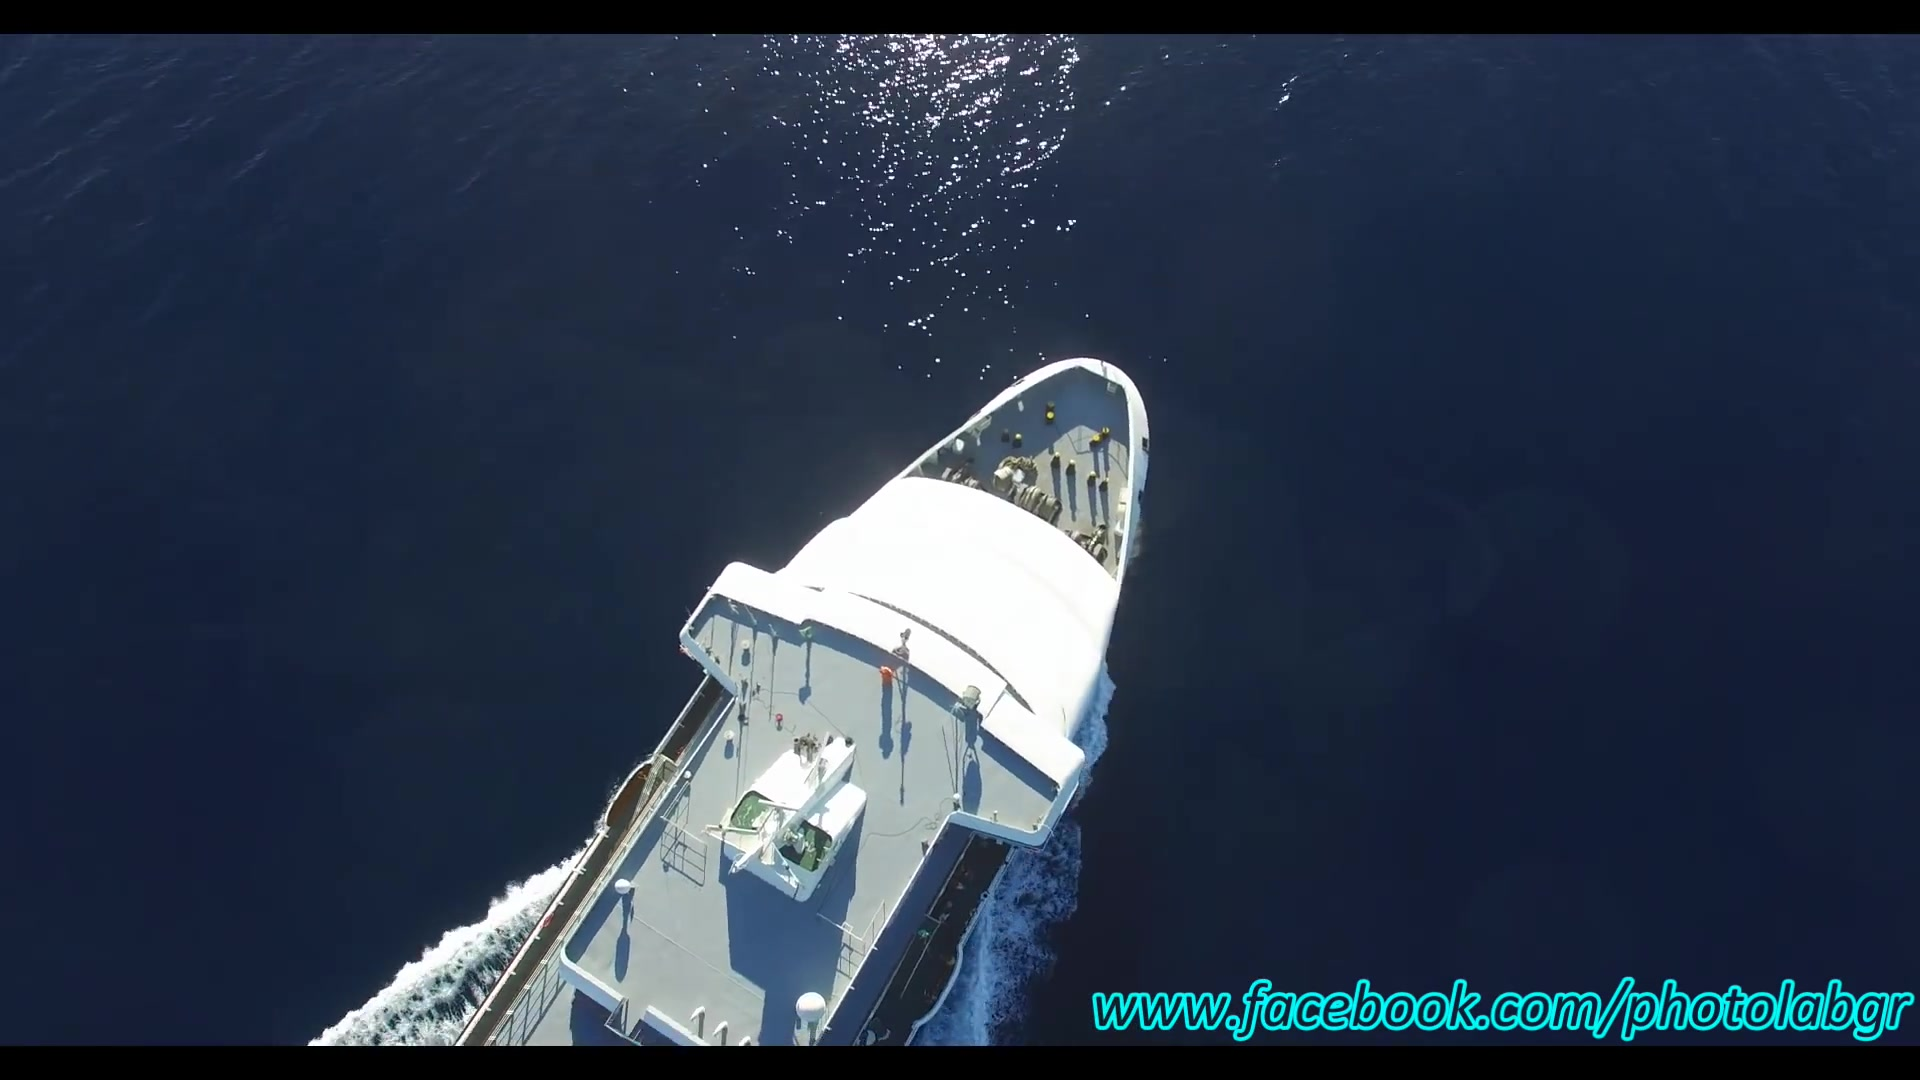CommonShip: (518, 343, 1171, 1005)
